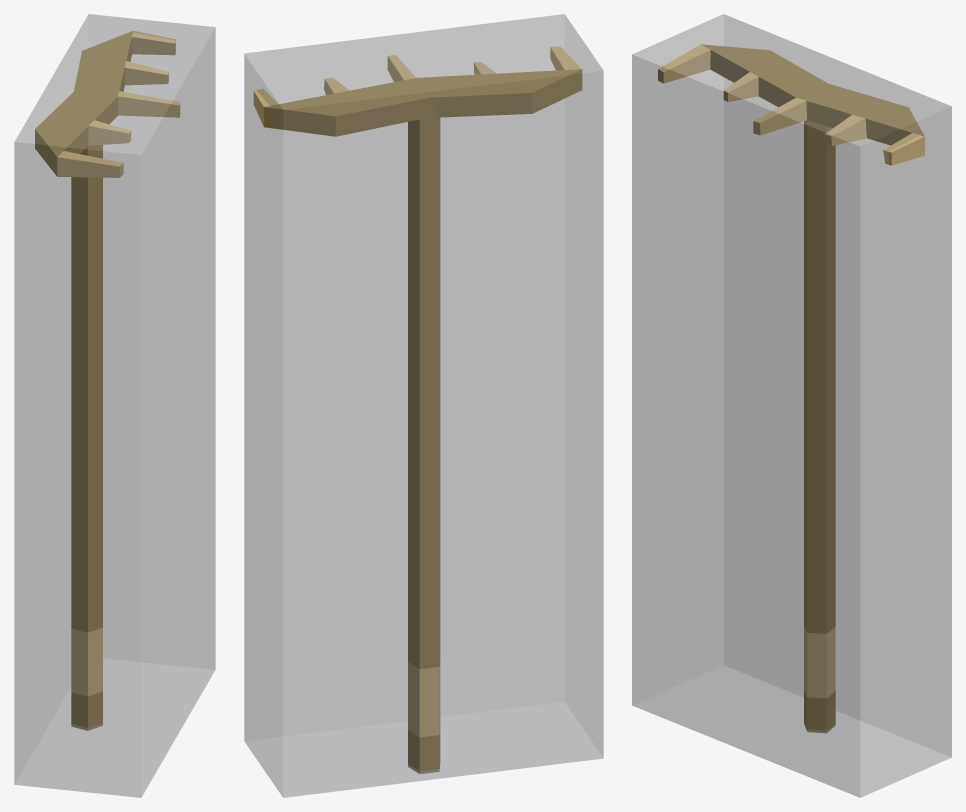
The model's file is weapon_rake.fbx.
3 renders of one model, left to right at view 1: azimuth 30°, elevation 25°; view 2: azimuth 150°, elevation 25°; view 3: azimuth 270°, elevation 25°, orthographic. The views are drawn at different scales.
Parts seen in each view (by area): view 1: simple, weapon2rake; view 2: simple, weapon2rake; view 3: simple, weapon2rake.
Part boxes in pixels (bbox=[...]): simple: bbox=[14, 14, 215, 797]; weapon2rake: bbox=[35, 30, 180, 730]; simple: bbox=[244, 14, 603, 797]; weapon2rake: bbox=[253, 46, 582, 773]; simple: bbox=[632, 14, 951, 797]; weapon2rake: bbox=[658, 44, 924, 733].
Bounding box in the file's own units: 0.5794 × 1.33 × 0.5897.
